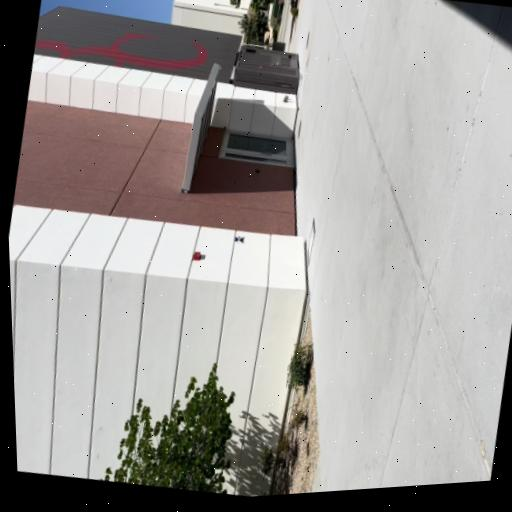target9: (234, 235, 244, 244)
